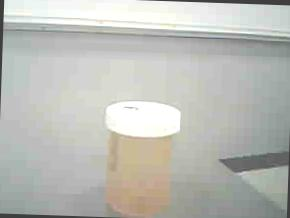Bottle B: (93, 94, 184, 218)
